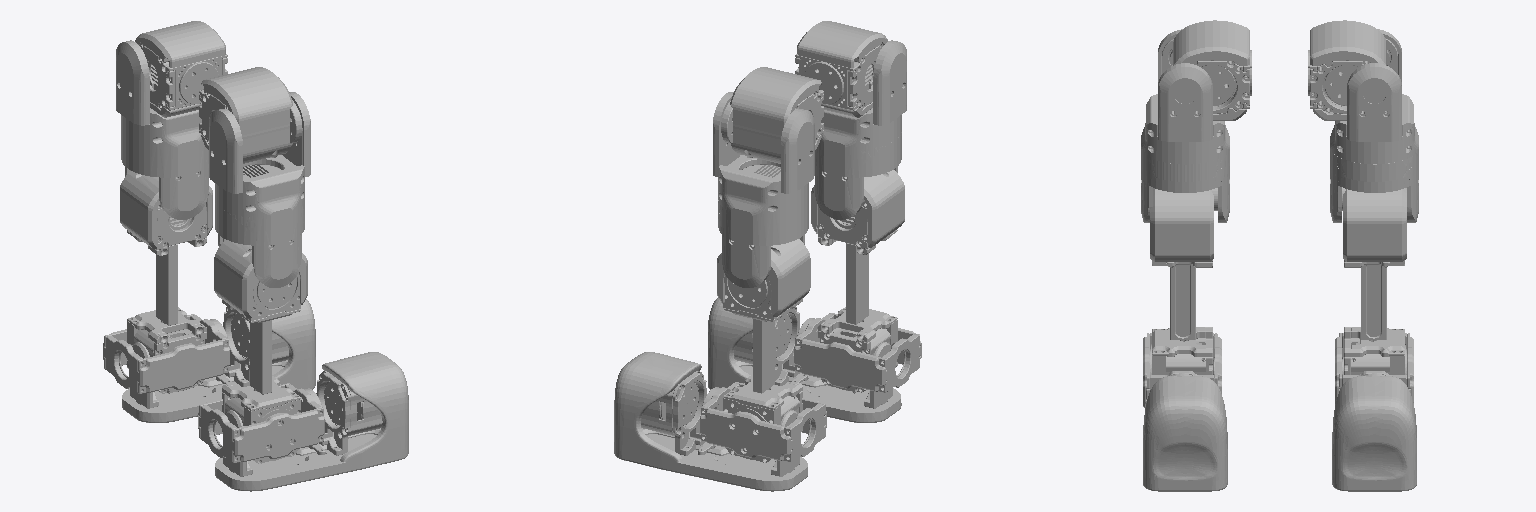
robot.urdf — pi:
<?xml version="1.0" encoding="utf-8"?>
<robot name="pi">
	<mujoco>
		<compiler meshdir="../meshes/" balanceinertia="true" discardvisual="false" />
	</mujoco>
	<link name="base">
		<inertial>
			<origin xyz="0.00242324 -5.699E-05 0.04030078" rpy="0 0 0" />
			<mass value="2.1609" />
			<inertia ixx="0.00900968" ixy="-2.533E-05" ixz="-0.00013112" iyy="0.00978166" iyz="2E-07" izz="0.00416554" />
		</inertial>
		<visual>
			<origin xyz="0 0 0" rpy="0 0 0" />
			<geometry>
				<!-- <box size="0.1 0.1 0.1" /> -->
				<mesh filename="../meshes/baselink_1.STL" />
			</geometry>
			<material name="">
				<color rgba="1 1 1 1" />
			</material>
		</visual>
		<collision>
			<origin xyz="0 0 0.08" rpy="0 0 0" />
			<geometry>
				<box size="0.17 0.11 0.15" />
				<!-- <mesh filename="../meshes/base_link.STL" /> -->
			</geometry>
		</collision>
	</link>

	<!-- left leg -->
	<link name="l_hip_pitch_link">
		<inertial>
			<origin xyz="0.00086268 0.05441908 -0.00025859" rpy="0 0 0" />
			<mass value="0.38968624" />
			<inertia ixx="0.00010076" ixy="-4.2E-07" ixz="-4E-08" iyy="0.00010507" iyz="-3E-07" izz="0.00012834" />
		</inertial>
		<visual>
			<origin xyz="0 0 0" rpy="0 0 0" />
			<geometry>
				<mesh filename="../meshes/l_hip_pitch_link.STL" />
			</geometry>
			<material name="">
				<color rgba="0.75294 0.75294 0.75294 1" />
			</material>
		</visual>
		<collision>
			<origin xyz="0 0.06 0" rpy="0 0 0" />
			<geometry>
				<box size="0.05 0.05 0.05" />
				<!-- <mesh filename="../meshes/r_hip_pitch_link.STL" /> -->
			</geometry>
		</collision>
	</link>
	<joint name="l_hip_pitch_joint" type="revolute">
		<origin xyz="-5.1979E-05 0.0233 -0.033" rpy="0 0 0" />
		<parent link="base" />
		<child link="l_hip_pitch_link" />
		<axis xyz="0 1 0" />
		<limit lower="-1.5" upper="1.5" effort="21" velocity="4" />
	</joint>
	<link name="l_hip_roll_link">
		<inertial>
			<origin xyz="-0.00207707 0.00026598 -0.0608194" rpy="0 0 0" />
			<mass value="0.38851552" />
			<inertia ixx="0.00027068" ixy="-7.6E-07" ixz="3.136E-05" iyy="0.0003332" iyz="8.8E-07" izz="0.00013543" />
		</inertial>
		<visual>
			<origin xyz="0 0 0" rpy="0 0 0" />
			<geometry>
				<mesh filename="../meshes/l_hip_roll_link.STL" />
			</geometry>
			<material name="">
				<color rgba="0.75294 0.75294 0.75294 1" />
			</material>
		</visual>
		<collision>
			<origin xyz="0 0 -0.065" rpy="0 0 0" />
			<geometry>
				<box size="0.05 0.05 0.04" />
				<!-- <mesh filename="../meshes/l_hip_roll_link.STL" /> -->
			</geometry>
		</collision>
	</link>
	<joint name="l_hip_roll_joint" type="revolute">
		<origin xyz="0 0.0568 0" rpy="0 0 0" />
		<parent link="l_hip_pitch_link" />
		<child link="l_hip_roll_link" />
		<axis xyz="1 0 0" />
		<limit lower="-0.38" upper="1.2" effort="21" velocity="4" />
	</joint>
	<link name="l_thigh_link">
		<inertial>
			<origin xyz="0 -0.00115822 -0.04755896" rpy="0 0 0" />
			<mass value="0.11270879" />
			<inertia ixx="0.00012497" ixy="0" ixz="0" iyy="5.82E-05" iyz="-3.21E-06" izz="9.438E-05" />
		</inertial>
		<visual>
			<origin xyz="0 0 0" rpy="0 0 0" />
			<geometry>
				<mesh filename="../meshes/l_thigh_link.STL" />
			</geometry>
			<material name="">
				<color rgba="0.75294 0.75294 0.75294 1" />
			</material>
		</visual>
		<collision>
			<origin xyz="0 0 -0.025" rpy="0 0 0" />
			<geometry>
				<box size="0.04 0.06 0.005" />
				<!-- <mesh filename="../meshes/l_thigh_link.STL" /> -->
			</geometry>
		</collision>
	</link>
	<joint name="l_thigh_joint" type="revolute">
		<origin xyz="0 0 -0.06925" rpy="0 0 0" />
		<parent link="l_hip_roll_link" />
		<child link="l_thigh_link" />
		<axis xyz="0 0 1" />
		<limit lower="-1" upper="1" effort="21" velocity="4" />
	</joint>
	<link name="l_calf_link">
		<inertial>
			<origin xyz="0.00026627 0.00386537 -0.06971210" rpy="0 0 0" />
			<mass value="0.81374212" />
			<inertia ixx="0.00352123" ixy="0.00000020" ixz="0.00000072" iyy="0.00349946" iyz="0.00002072" izz="0.00017468" />
		</inertial>
		<visual>
			<origin xyz="0 0 0" rpy="0 0 0" />
			<geometry>
				<mesh filename="../meshes/l_calf_link.STL" />
			</geometry>
			<material name="">
				<color rgba="0.75294 0.75294 0.75294 1" />
			</material>
		</visual>
		<collision>
			<origin xyz="0 0 0" rpy="0 0 0" />
			<geometry>
				<box size="0.05 0.05 0.05" />
				<!-- <mesh filename="../meshes/l_calf_link.STL" /> -->
			</geometry>
		</collision>
	</link>
	<joint name="l_calf_joint" type="revolute">
		<origin xyz="0 0 -0.07025" rpy="0 0 0" />
		<parent link="l_thigh_link" />
		<child link="l_calf_link" />
		<axis xyz="0 1 0" />
		<limit lower="0" upper="2.2" effort="21" velocity="4" />
	</joint>
	<link name="l_ankle_pitch_link">
		<inertial>
			<origin xyz="0.00467932 -0.00077699 0" rpy="0 0 0" />
			<mass value="0.1759244" />
			<inertia ixx="0.00011981" ixy="-6.4E-07" ixz="0" iyy="0.00022179" iyz="0" izz="0.00030766" />
		</inertial>
		<visual>
			<origin xyz="0 0 0" rpy="0 0 0" />
			<geometry>
				<mesh filename="../meshes/l_ankle_pitch_link.STL" />
			</geometry>
			<material name="">
				<color rgba="0.75294 0.75294 0.75294 1" />
			</material>
		</visual>
		<collision>
			<origin xyz="0 0 0" rpy="0 0 0" />
			<geometry>
				<box size="0.07 0.065 0.045" />
				<!-- <mesh filename="../meshes/l_ankle_pitch_link.STL" /> -->
			</geometry>
		</collision>
	</link>
	<joint name="l_ankle_pitch_joint" type="revolute">
		<origin xyz="0 0 -0.14" rpy="0 0 0" />
		<parent link="l_calf_link" />
		<child link="l_ankle_pitch_link" />
		<axis xyz="0 1 0" />
		<limit lower="-0.8" upper="0.8" effort="21" velocity="4" />
	</joint>
	<link name="l_ankle_roll_link">
		<inertial>
			<origin xyz="-0.02383679 0.00019256 -0.0144649" rpy="0 0 0" />
			<mass value="0.51868476" />
			<inertia ixx="0.0003308" ixy="-2.49E-06" ixz="-0.00018245" iyy="0.00113168" iyz="-1.06E-06" izz="0.00098381" />
		</inertial>
		<visual>
			<origin xyz="0 0 0" rpy="0 0 0" />
			<geometry>
				<mesh filename="../meshes/l_ankle_roll_link.STL" />
			</geometry>
			<material name="">
				<color rgba="0.75294 0.75294 0.75294 1" />
			</material>
		</visual>
		<collision>
			<origin xyz="-0.05 0.0 -0.045" rpy="0 0 0" />
			<geometry>
				<box size="0.17 0.07 0.008" />
				<!-- <mesh filename="../meshes/foot.STL" scale="0.001 0.001 0.001"/> -->
			</geometry>
		</collision>
        <collision>
			<origin xyz="0.01 0.0 -0.005" rpy="0 0 0" />
			<geometry>
				<box size="0.05 0.07 0.06" />
				<!-- <mesh filename="../meshes/foot.STL" scale="0.001 0.001 0.001"/> -->
			</geometry>
		 </collision>
	</link>
	<joint name="l_ankle_roll_joint" type="revolute">
		<origin xyz="0.07525 0 0" rpy="0 0 0" />
		<parent link="l_ankle_pitch_link" />
		<child link="l_ankle_roll_link" />
		<axis xyz="1 0 0" />
		<limit lower="-0.6" upper="0.6" effort="21" velocity="4" />
	</joint>

	<!-- right leg -->
	<link name="r_hip_pitch_link">
		<inertial>
			<origin xyz="0.00089428 -0.05527744 -0.00027276" rpy="0 0 0" />
			<mass value="0.36999771" />
			<inertia ixx="8.307E-05" ixy="2E-07" ixz="-5E-08" iyy="9.81E-05" iyz="-7E-07" izz="0.0001085" />
		</inertial>
		<visual>
			<origin xyz="0 0 0" rpy="0 0 0" />
			<geometry>
				<mesh filename="../meshes/r_hip_pitch_link.STL" />
			</geometry>
			<material name="">
				<color rgba="0.75294 0.75294 0.75294 1" />
			</material>
		</visual>
		<collision>
			<origin xyz="0 -0.06 0" rpy="0 0 0" />
			<geometry>
				<box size="0.05 0.05 0.05" />
				<!-- <mesh filename="../meshes/r_hip_pitch_link.STL" /> -->
			</geometry>
		</collision>
	</link>
	<joint name="r_hip_pitch_joint" type="revolute">
		<origin xyz="-5.1979E-05 -0.0233 -0.033" rpy="0 0 0" />
		<parent link="base" />
		<child link="r_hip_pitch_link" />
		<axis xyz="0 1 0" />
		<limit lower="-1.5" upper="1.5" effort="21" velocity="4" />
	</joint>
	<link name="r_hip_roll_link">
		<inertial>
			<origin xyz="-0.00180153 0.00025956 -0.0608194" rpy="0 0 0" />
			<mass value="0.38851552" />
			<inertia ixx="0.00027042" ixy="3.9E-07" ixz="3.312E-05" iyy="0.0003342" iyz="8.7E-07" izz="0.00013617" />
		</inertial>
		<visual>
			<origin xyz="0 0 0" rpy="0 0 0" />
			<geometry>
				<mesh filename="../meshes/r_hip_roll_link.STL" />
			</geometry>
			<material name="">
				<color rgba="0.75294 0.75294 0.75294 1" />
			</material>
		</visual>
		<collision>
			<origin xyz="0 0 -0.065" rpy="0 0 0" />
			<geometry>
				<box size="0.05 0.05 0.04" />
				<!-- <mesh filename="../meshes/l_hip_roll_link.STL" /> -->
			</geometry>
		</collision>
	</link>
	<joint name="r_hip_roll_joint" type="revolute">
		<origin xyz="0.00025 -0.0568 0" rpy="0 0 0" />
		<parent link="r_hip_pitch_link" />
		<child link="r_hip_roll_link" />
		<axis xyz="1 0 0" />
		<limit lower="-0.38" upper="1.2" effort="21" velocity="4" />
	</joint>
	<link name="r_thigh_link">
		<inertial>
			<origin xyz="0 0.00116854 -0.04755896" rpy="0 0 0" />
			<mass value="0.11270879" />
			<inertia ixx="0.00012496" ixy="0" ixz="0" iyy="5.82E-05" iyz="3.19E-06" izz="9.438E-05" />
		</inertial>
		<visual>
			<origin xyz="0 0 0" rpy="0 0 0" />
			<geometry>
				<mesh filename="../meshes/r_thigh_link.STL" />
			</geometry>
			<material name="">
				<color rgba="0.75294 0.75294 0.75294 1" />
			</material>
		</visual>
		<collision>
			<origin xyz="0 0 -0.025" rpy="0 0 0" />
			<geometry>
				<box size="0.04 0.06 0.005" />
				<!-- <mesh filename="../meshes/l_thigh_link.STL" /> -->
			</geometry>
		</collision>
	</link>
	<joint name="r_thigh_joint" type="revolute">
		<origin xyz="-0.00025 0 -0.06925" rpy="0 0 0" />
		<parent link="r_hip_roll_link" />
		<child link="r_thigh_link" />
		<axis xyz="0 0 1" />
		<limit lower="-1" upper="1" effort="21" velocity="4" />
	</joint>
	<link name="r_calf_link">
		<inertial>
			<origin xyz="-0.00026627 -0.00116537 -0.06971210" rpy="0 0 0" />
			<mass value="0.81374212" />
			<inertia ixx="0.00352123" ixy="0.00000020" ixz="-0.00000072" iyy="0.00349946" iyz="-0.00002072" izz="0.00017468" />
		</inertial>
		<visual>
			<origin xyz="0 0 0" rpy="0 0 0" />
			<geometry>
				<mesh filename="../meshes/r_calf_link.STL" />
			</geometry>
			<material name="">
				<color rgba="0.75294 0.75294 0.75294 1" />
			</material>
		</visual>
		<collision>
			<origin xyz="0 0 0" rpy="0 0 0" />
			<geometry>
				<box size="0.05 0.05 0.05" />
				<!-- <mesh filename="../meshes/l_calf_link.STL" /> -->
			</geometry>
		</collision>
	</link>
	<joint name="r_calf_joint" type="revolute">
		<origin xyz="0 -0.0027 -0.07025" rpy="0 0 0" />
		<parent link="r_thigh_link" />
		<child link="r_calf_link" />
		<axis xyz="0 1 0" />
		<limit lower="0" upper="2.2" effort="21" velocity="4" />
	</joint>
	<link name="r_ankle_pitch_link">
		<inertial>
			<origin xyz="0.00467932 0.00347699 0" rpy="0 0 0" />
			<mass value="0.1759244" />
			<inertia ixx="0.00011981" ixy="6.4E-07" ixz="0" iyy="0.00022179" iyz="0" izz="0.00030766" />
		</inertial>
		<visual>
			<origin xyz="0 0 0" rpy="0 0 0" />
			<geometry>
				<mesh filename="../meshes/r_ankle_pitch_link.STL" />
			</geometry>
			<material name="">
				<color rgba="0.75294 0.75294 0.75294 1" />
			</material>
		</visual>
		<collision>
			<origin xyz="0 0 0" rpy="0 0 0" />
			<geometry>
				<box size="0.07 0.065 0.045" />
				<!-- <mesh filename="../meshes/r_ankle_pitch_link.STL" /> -->
			</geometry>
		</collision>
	</link>
	<joint name="r_ankle_pitch_joint" type="revolute">
		<origin xyz="0 0 -0.14" rpy="0 0 0" />
		<parent link="r_calf_link" />
		<child link="r_ankle_pitch_link" />
		<axis xyz="0 1 0" />
		<limit lower="-0.8" upper="0.8" effort="21" velocity="4" />
	</joint>
	<link name="r_ankle_roll_link">
		<inertial>
			<origin xyz="-0.02383679 0.00019256 -0.0144649" rpy="0 0 0" />
			<mass value="0.51868476" />
			<inertia ixx="0.0003308" ixy="-2.49E-06" ixz="-0.00018245" iyy="0.00113168" iyz="-1.06E-06" izz="0.00098381" />
		</inertial>
		<visual>
			<origin xyz="0 0 0" rpy="0 0 0" />
			<geometry>
				<mesh filename="../meshes/r_ankle_roll_link.STL" />
			</geometry>
			<material name="">
				<color rgba="0.75294 0.75294 0.75294 1" />
			</material>
		</visual>
		<collision>
			<origin xyz="-0.05 0.0 -0.045" rpy="0 0 0" />
			<geometry>
				<box size="0.17 0.07 0.008" />
				<!-- <mesh filename="../meshes/foot.STL" scale="0.001 0.001 0.001"/> -->
			</geometry>
		</collision>
        <collision>
			<origin xyz="0.01 0.0 -0.005" rpy="0 0 0" />
			<geometry>
				<box size="0.05 0.07 0.06" />
				<!-- <mesh filename="../meshes/foot.STL" scale="0.001 0.001 0.001"/> -->
			</geometry>
		 </collision>
	</link>
	<joint name="r_ankle_roll_joint" type="revolute">
		<origin xyz="0.07525 0.0027 0" rpy="0 0 0" />
		<parent link="r_ankle_pitch_link" />
		<child link="r_ankle_roll_link" />
		<axis xyz="1 0 0" />
		<limit lower="-0.6" upper="0.6" effort="21" velocity="4" />
	</joint>
</robot>

--- Render facts (derived) ---
3 views of the same robot in one strip: view 1: azimuth 30°, elevation 25°; view 2: azimuth 150°, elevation 25°; view 3: azimuth 270°, elevation 25° (orthographic).
Model pi with 13 links and 12 joints (12 revolute), rooted at base, posed every joint at zero.
Links seen in each view (by area): view 1: r_ankle_roll_link, r_hip_roll_link, r_calf_link, l_calf_link, l_ankle_roll_link, l_hip_roll_link, r_hip_pitch_link, l_hip_pitch_link, r_ankle_pitch_link, l_ankle_pitch_link, l_thigh_link, r_thigh_link; view 2: l_ankle_roll_link, l_hip_roll_link, l_calf_link, r_calf_link, r_ankle_roll_link, r_hip_roll_link, l_hip_pitch_link, r_hip_pitch_link, r_ankle_pitch_link, l_ankle_pitch_link, r_thigh_link, l_thigh_link; view 3: l_calf_link, l_ankle_roll_link, r_ankle_roll_link, r_calf_link, r_hip_roll_link, l_hip_roll_link, r_hip_pitch_link, l_hip_pitch_link, l_thigh_link, r_thigh_link, r_ankle_pitch_link, l_ankle_pitch_link.
Link boxes in pixels (left/top/right/bottom): r_ankle_roll_link: left=215, top=352, right=408, bottom=491; r_hip_roll_link: left=209, top=92, right=310, bottom=245; r_calf_link: left=214, top=240, right=307, bottom=463; l_calf_link: left=120, top=171, right=212, bottom=393; l_ankle_roll_link: left=122, top=299, right=315, bottom=422; l_hip_roll_link: left=116, top=40, right=202, bottom=177; r_hip_pitch_link: left=199, top=67, right=292, bottom=163; l_hip_pitch_link: left=135, top=21, right=227, bottom=117; r_ankle_pitch_link: left=198, top=383, right=324, bottom=462; l_ankle_pitch_link: left=103, top=314, right=229, bottom=393; l_thigh_link: left=125, top=142, right=208, bottom=219; r_thigh_link: left=215, top=202, right=303, bottom=287; l_ankle_roll_link: left=614, top=352, right=807, bottom=491; l_hip_roll_link: left=713, top=92, right=814, bottom=245; l_calf_link: left=717, top=239, right=810, bottom=462; r_calf_link: left=811, top=170, right=904, bottom=392; r_ankle_roll_link: left=708, top=297, right=901, bottom=422; r_hip_roll_link: left=816, top=40, right=906, bottom=177; l_hip_pitch_link: left=730, top=67, right=823, bottom=163; r_hip_pitch_link: left=795, top=21, right=887, bottom=117; r_ankle_pitch_link: left=794, top=313, right=921, bottom=392; l_ankle_pitch_link: left=700, top=382, right=826, bottom=461; r_thigh_link: left=815, top=132, right=901, bottom=219; l_thigh_link: left=718, top=200, right=804, bottom=287; l_calf_link: left=1343, top=188, right=1406, bottom=374; l_ankle_roll_link: left=1332, top=376, right=1416, bottom=491; r_ankle_roll_link: left=1143, top=376, right=1227, bottom=491; r_calf_link: left=1150, top=188, right=1213, bottom=374; r_hip_roll_link: left=1141, top=29, right=1229, bottom=192; l_hip_roll_link: left=1330, top=29, right=1418, bottom=192; r_hip_pitch_link: left=1173, top=20, right=1251, bottom=120; l_hip_pitch_link: left=1308, top=20, right=1386, bottom=120; l_thigh_link: left=1330, top=151, right=1418, bottom=222; r_thigh_link: left=1141, top=151, right=1229, bottom=222; r_ankle_pitch_link: left=1143, top=333, right=1221, bottom=407; l_ankle_pitch_link: left=1335, top=333, right=1413, bottom=403.
Bounding box of the posed robot: 0.1803 × 0.2352 × 0.3664 m (x, y, z).
Meshes: 13 distinct files referenced, 12 mesh visuals loaded (12 binary STL); not drawn: 1 (reference not matched to a file when rendering).
